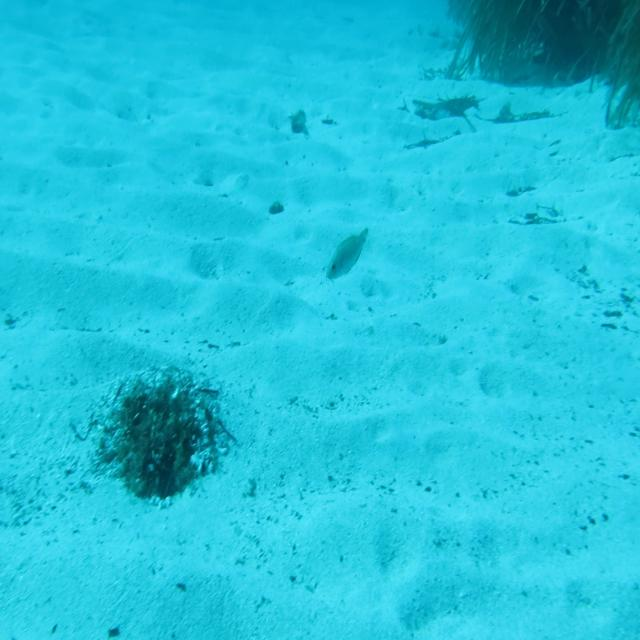AM: (323, 228, 370, 283)
nest: (90, 359, 237, 504)
vegetation: (457, 0, 640, 81), (325, 276, 334, 285)
